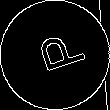P_W: (25, 29, 85, 81)
